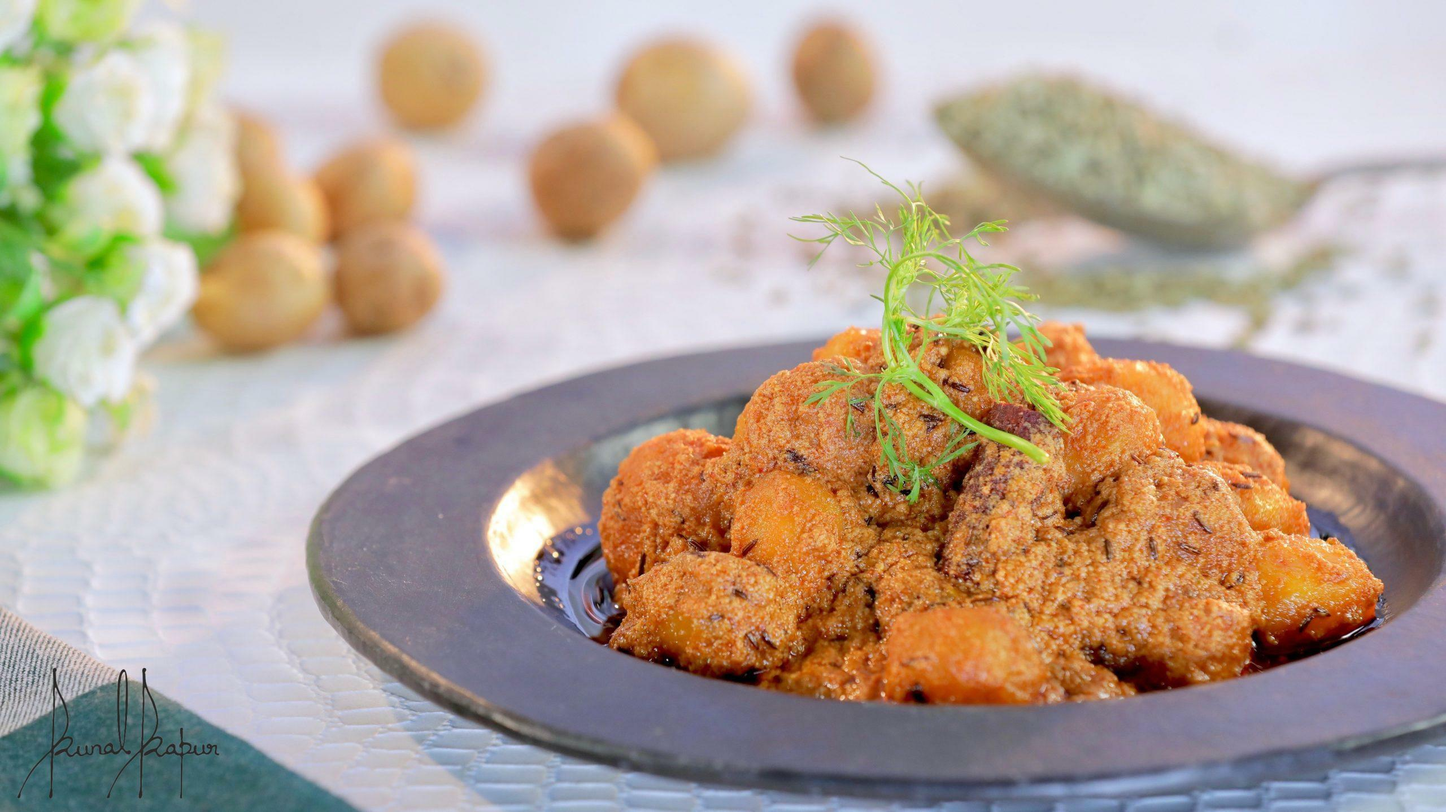DumAloo: (571, 302, 1394, 711)
